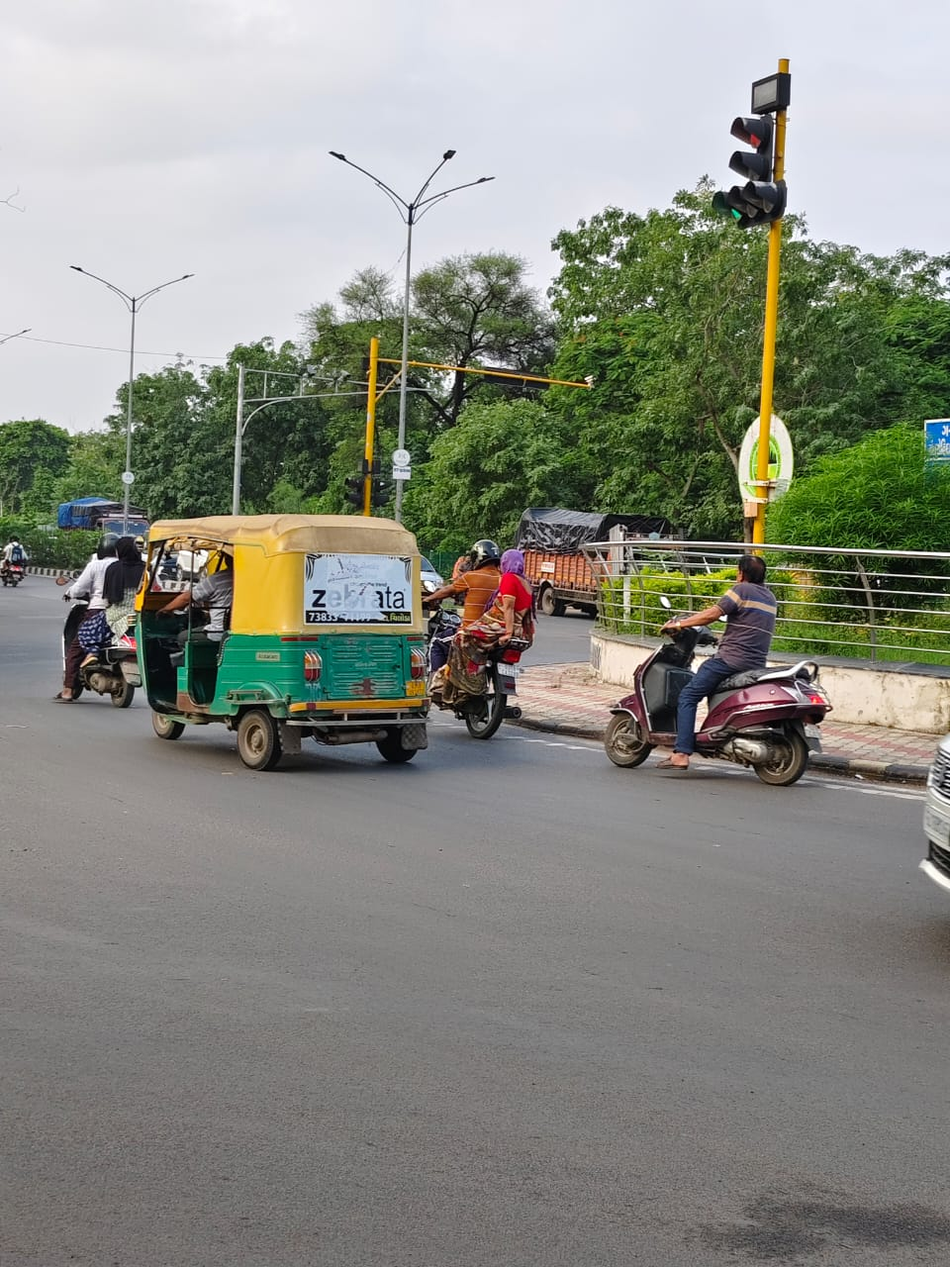BikeWithRider: (593, 547, 839, 792), (417, 533, 543, 744), (45, 529, 154, 713), (0, 535, 33, 589)
Helmet: (88, 530, 130, 562), (469, 536, 504, 571)
NoHelmet: (728, 549, 773, 591)
